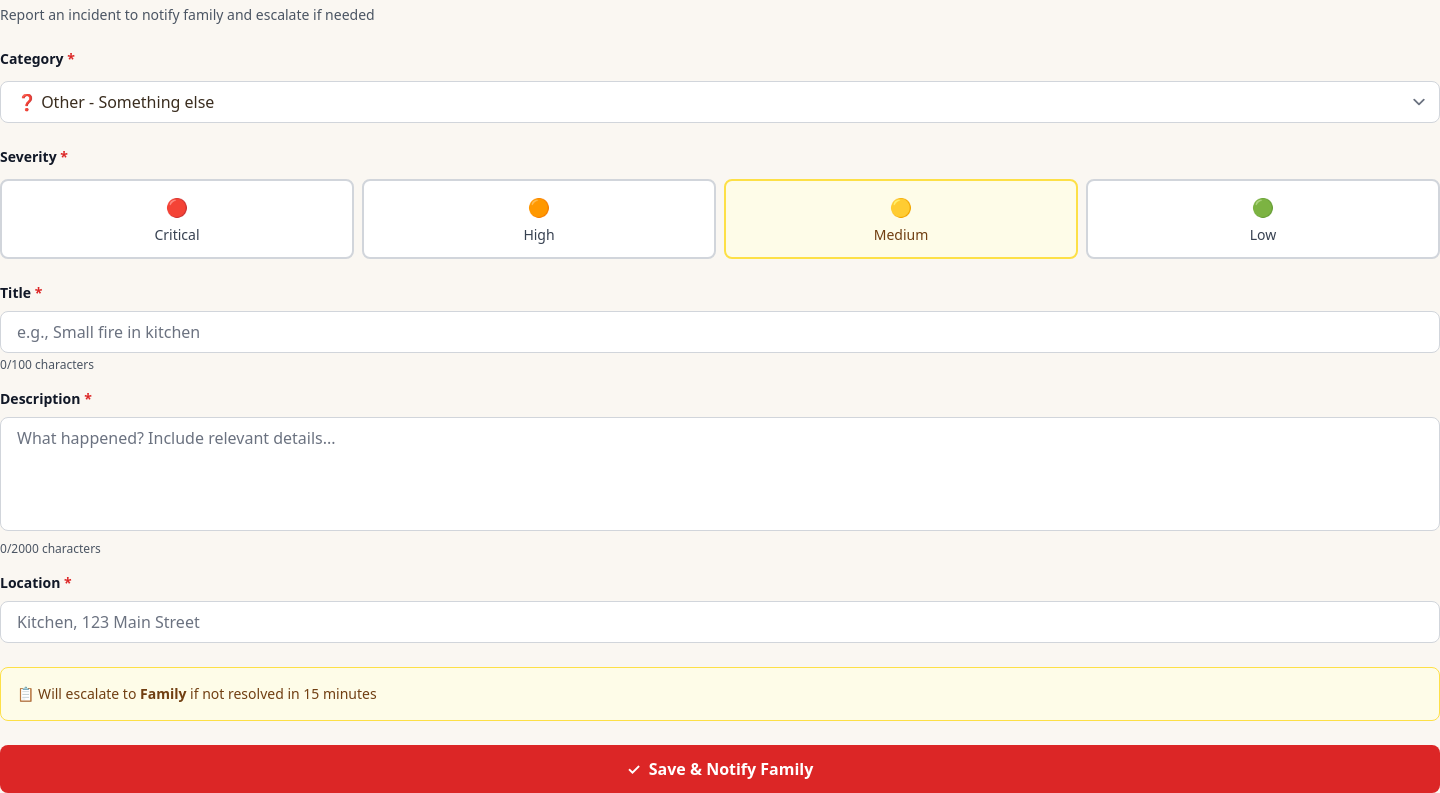
Test: IncidentLogForm Component › Form Validation › should require title field
(page scrolled)
Click the button "✓ Save & Notify Family". click: click(720, 769)
box: [0,745,1439,792]
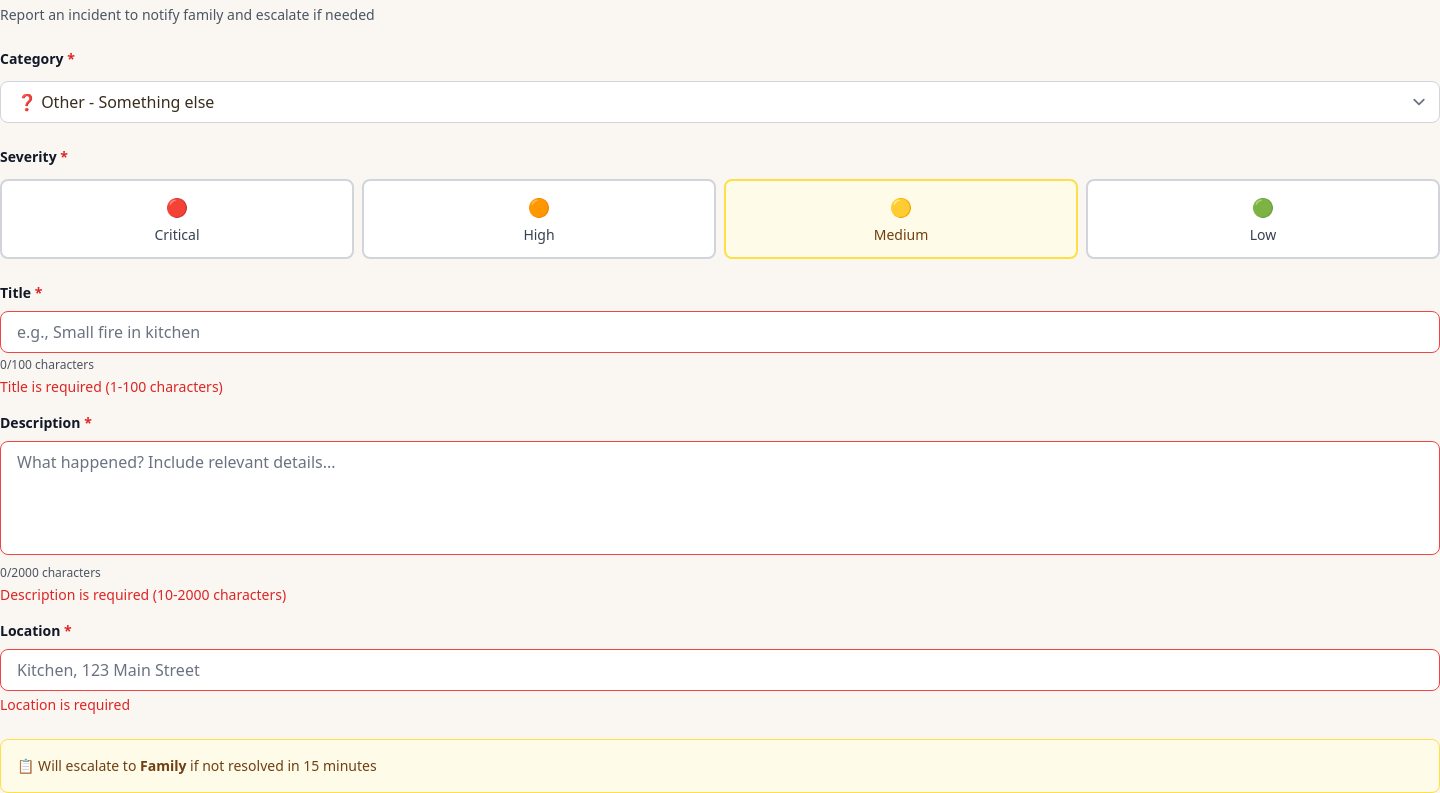
Now the text "Title is required (1-100 characters)" is shown, box [0,377,223,396]
